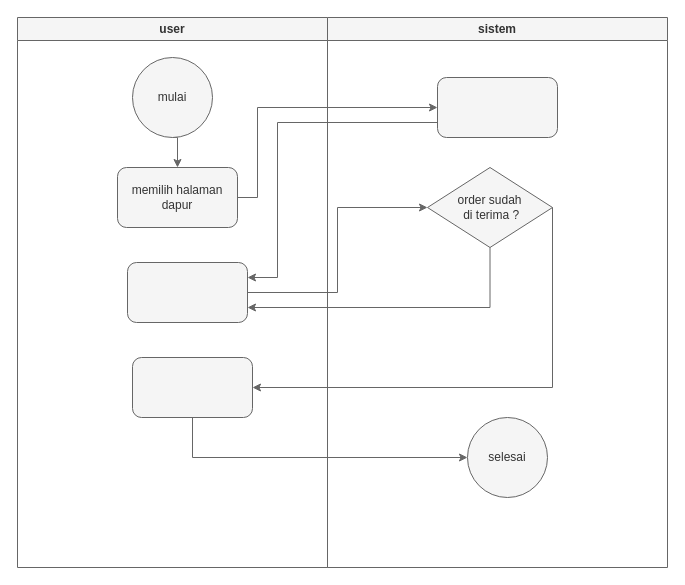
The diagram is 685 pixels wide and 585 high, and some of its shapes have lost their labels. The centre of each missing label's shape, as x and y in pixels:
"menampilkan halaman dapur" goes at [497,107].
"menekan tombol terima order" goes at [187,292].
"menkan tombol siap saji" goes at [192,387].
